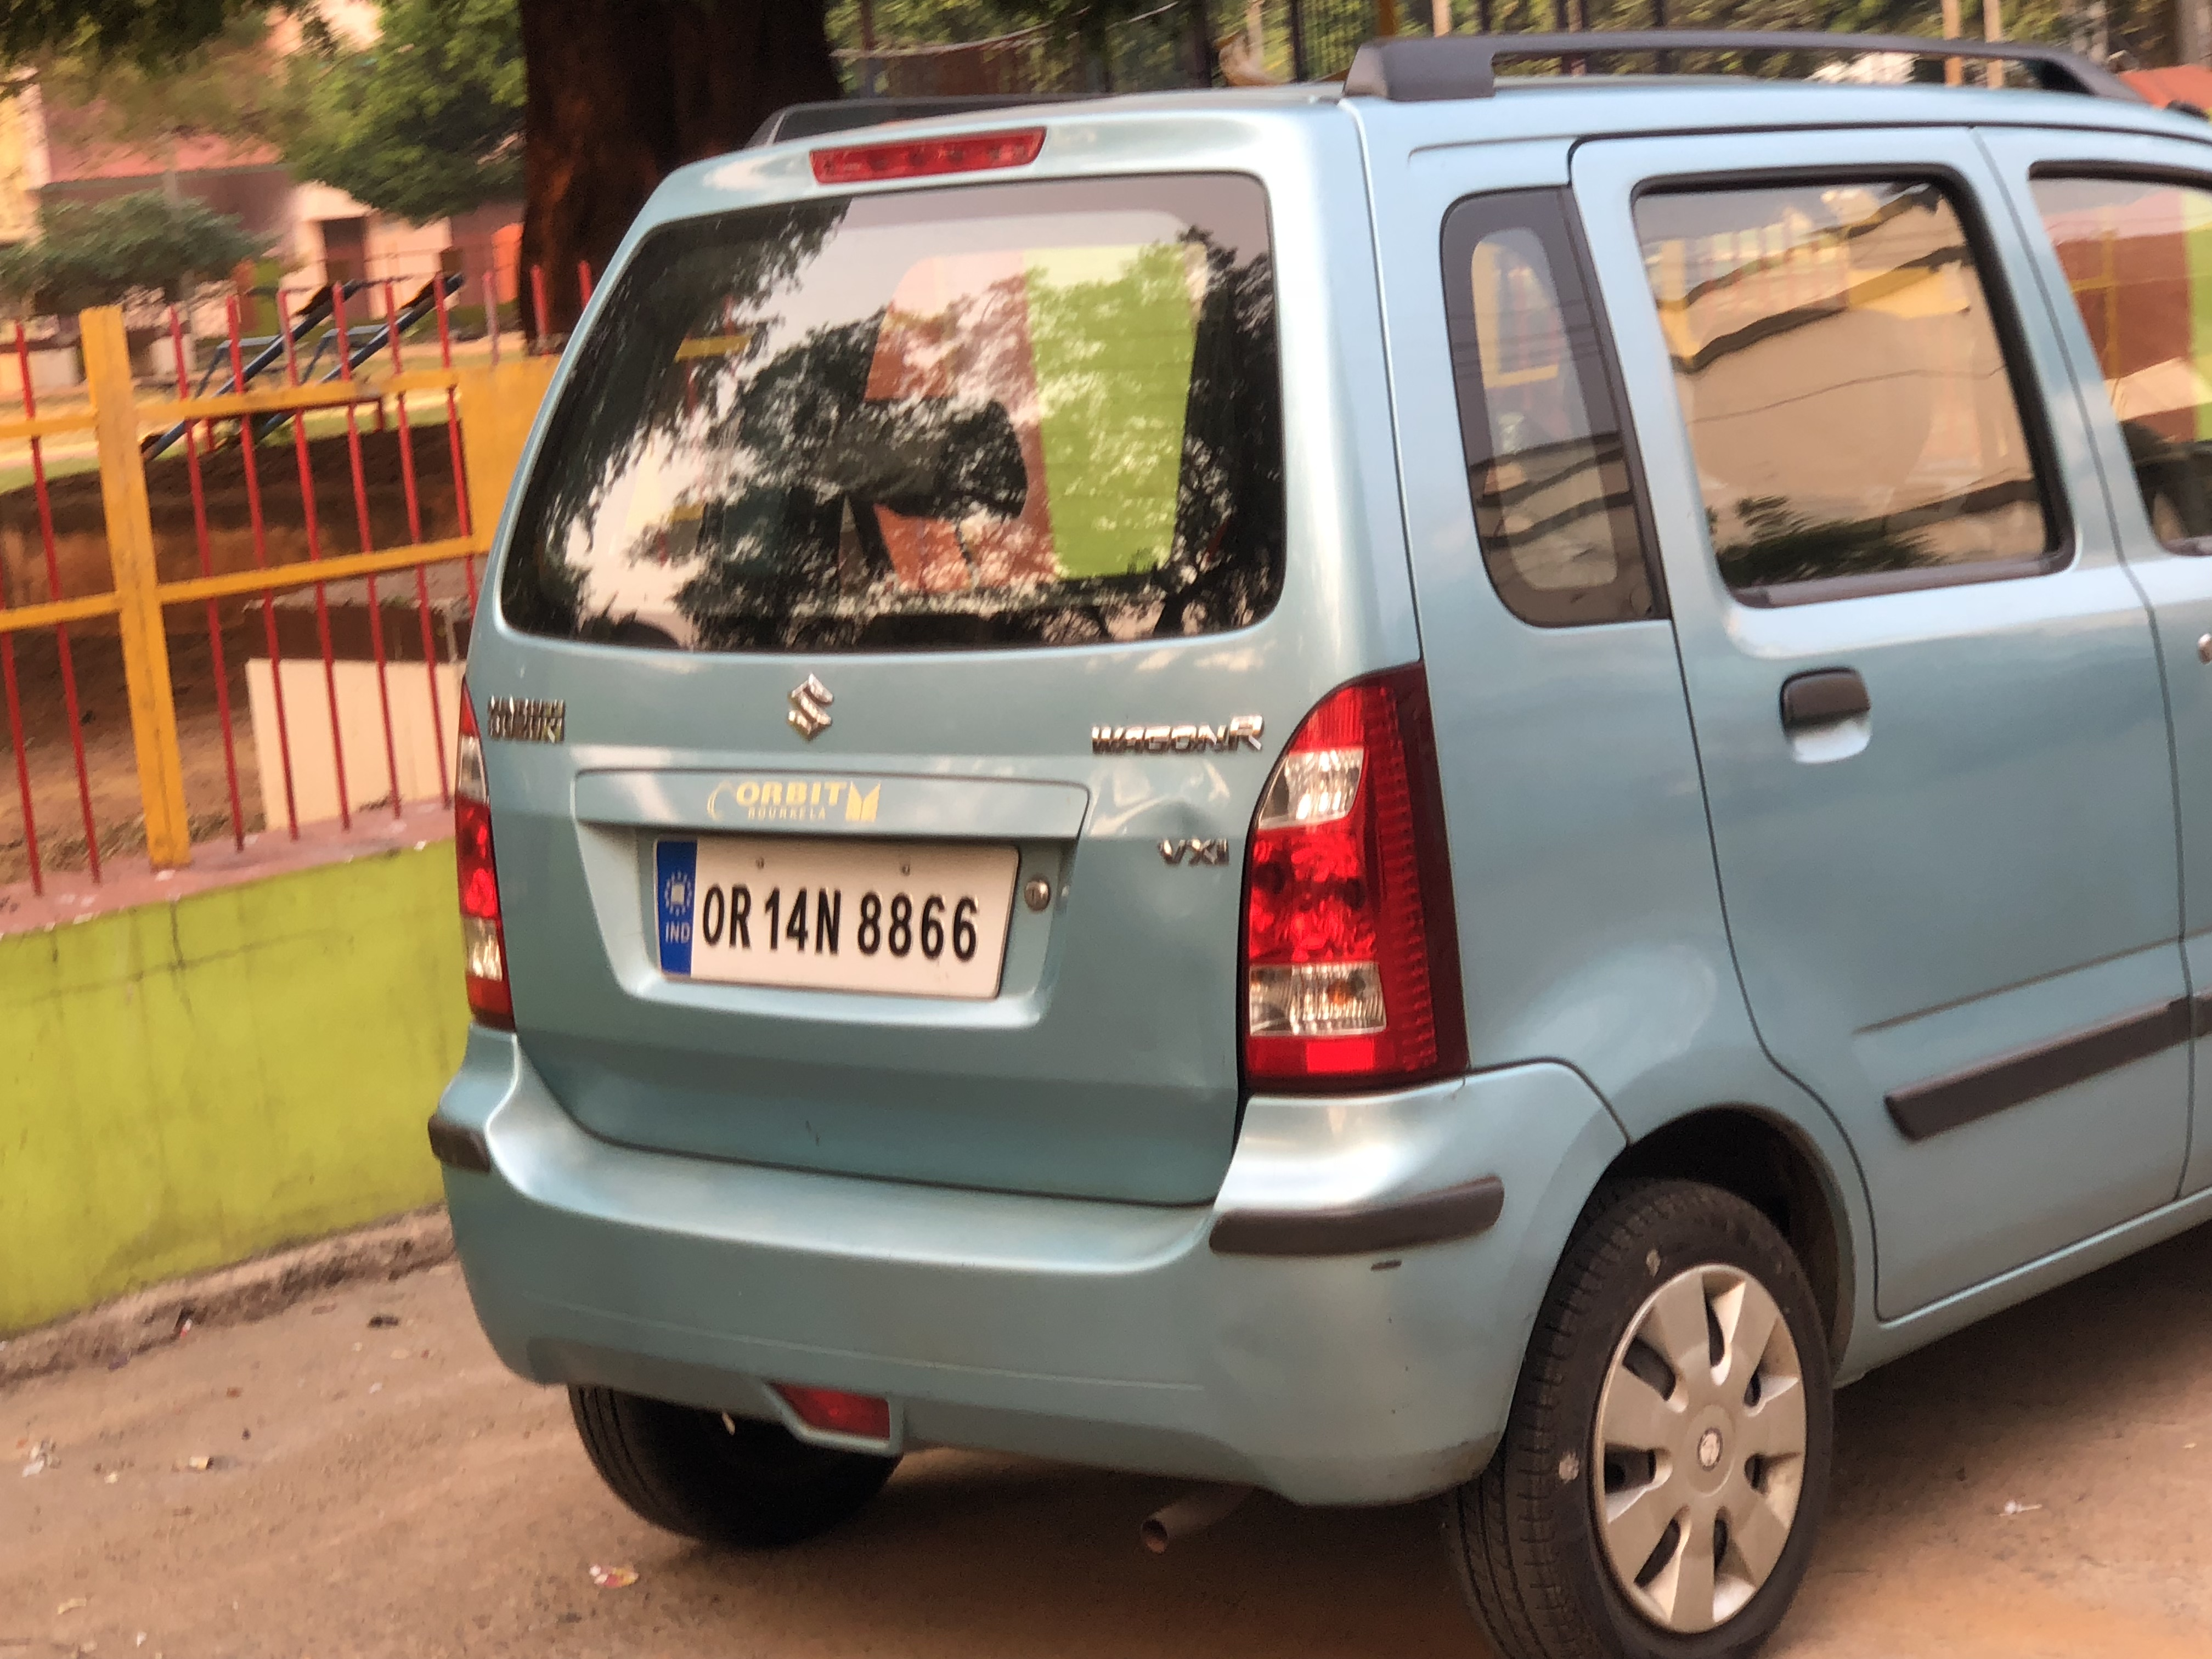licenseplate: (636, 819, 1042, 1017)
